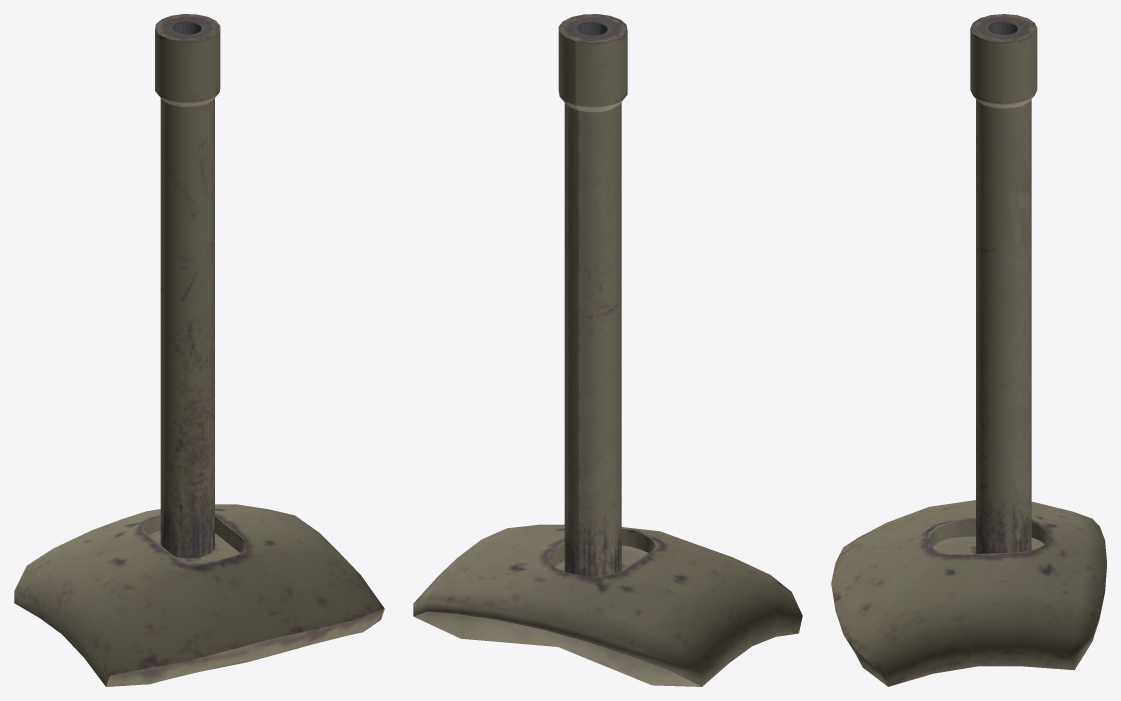
File: Gun_02.glb
3 renders of one model, left to right at view 1: azimuth 30°, elevation 25°; view 2: azimuth 150°, elevation 25°; view 3: azimuth 270°, elevation 25°, orthographic. The views are drawn at different scales.
Parts seen in each view (by area): view 1: set_0_group_0; view 2: set_0_group_0; view 3: set_0_group_0.
Part boxes in pixels (x1,y1,x2,y2): set_0_group_0: (14, 14, 384, 686); set_0_group_0: (413, 14, 802, 686); set_0_group_0: (831, 14, 1106, 686).
Size of the model in its own units: 0.6321 by 1.3 by 0.5411.
1 material, 1 textured.
